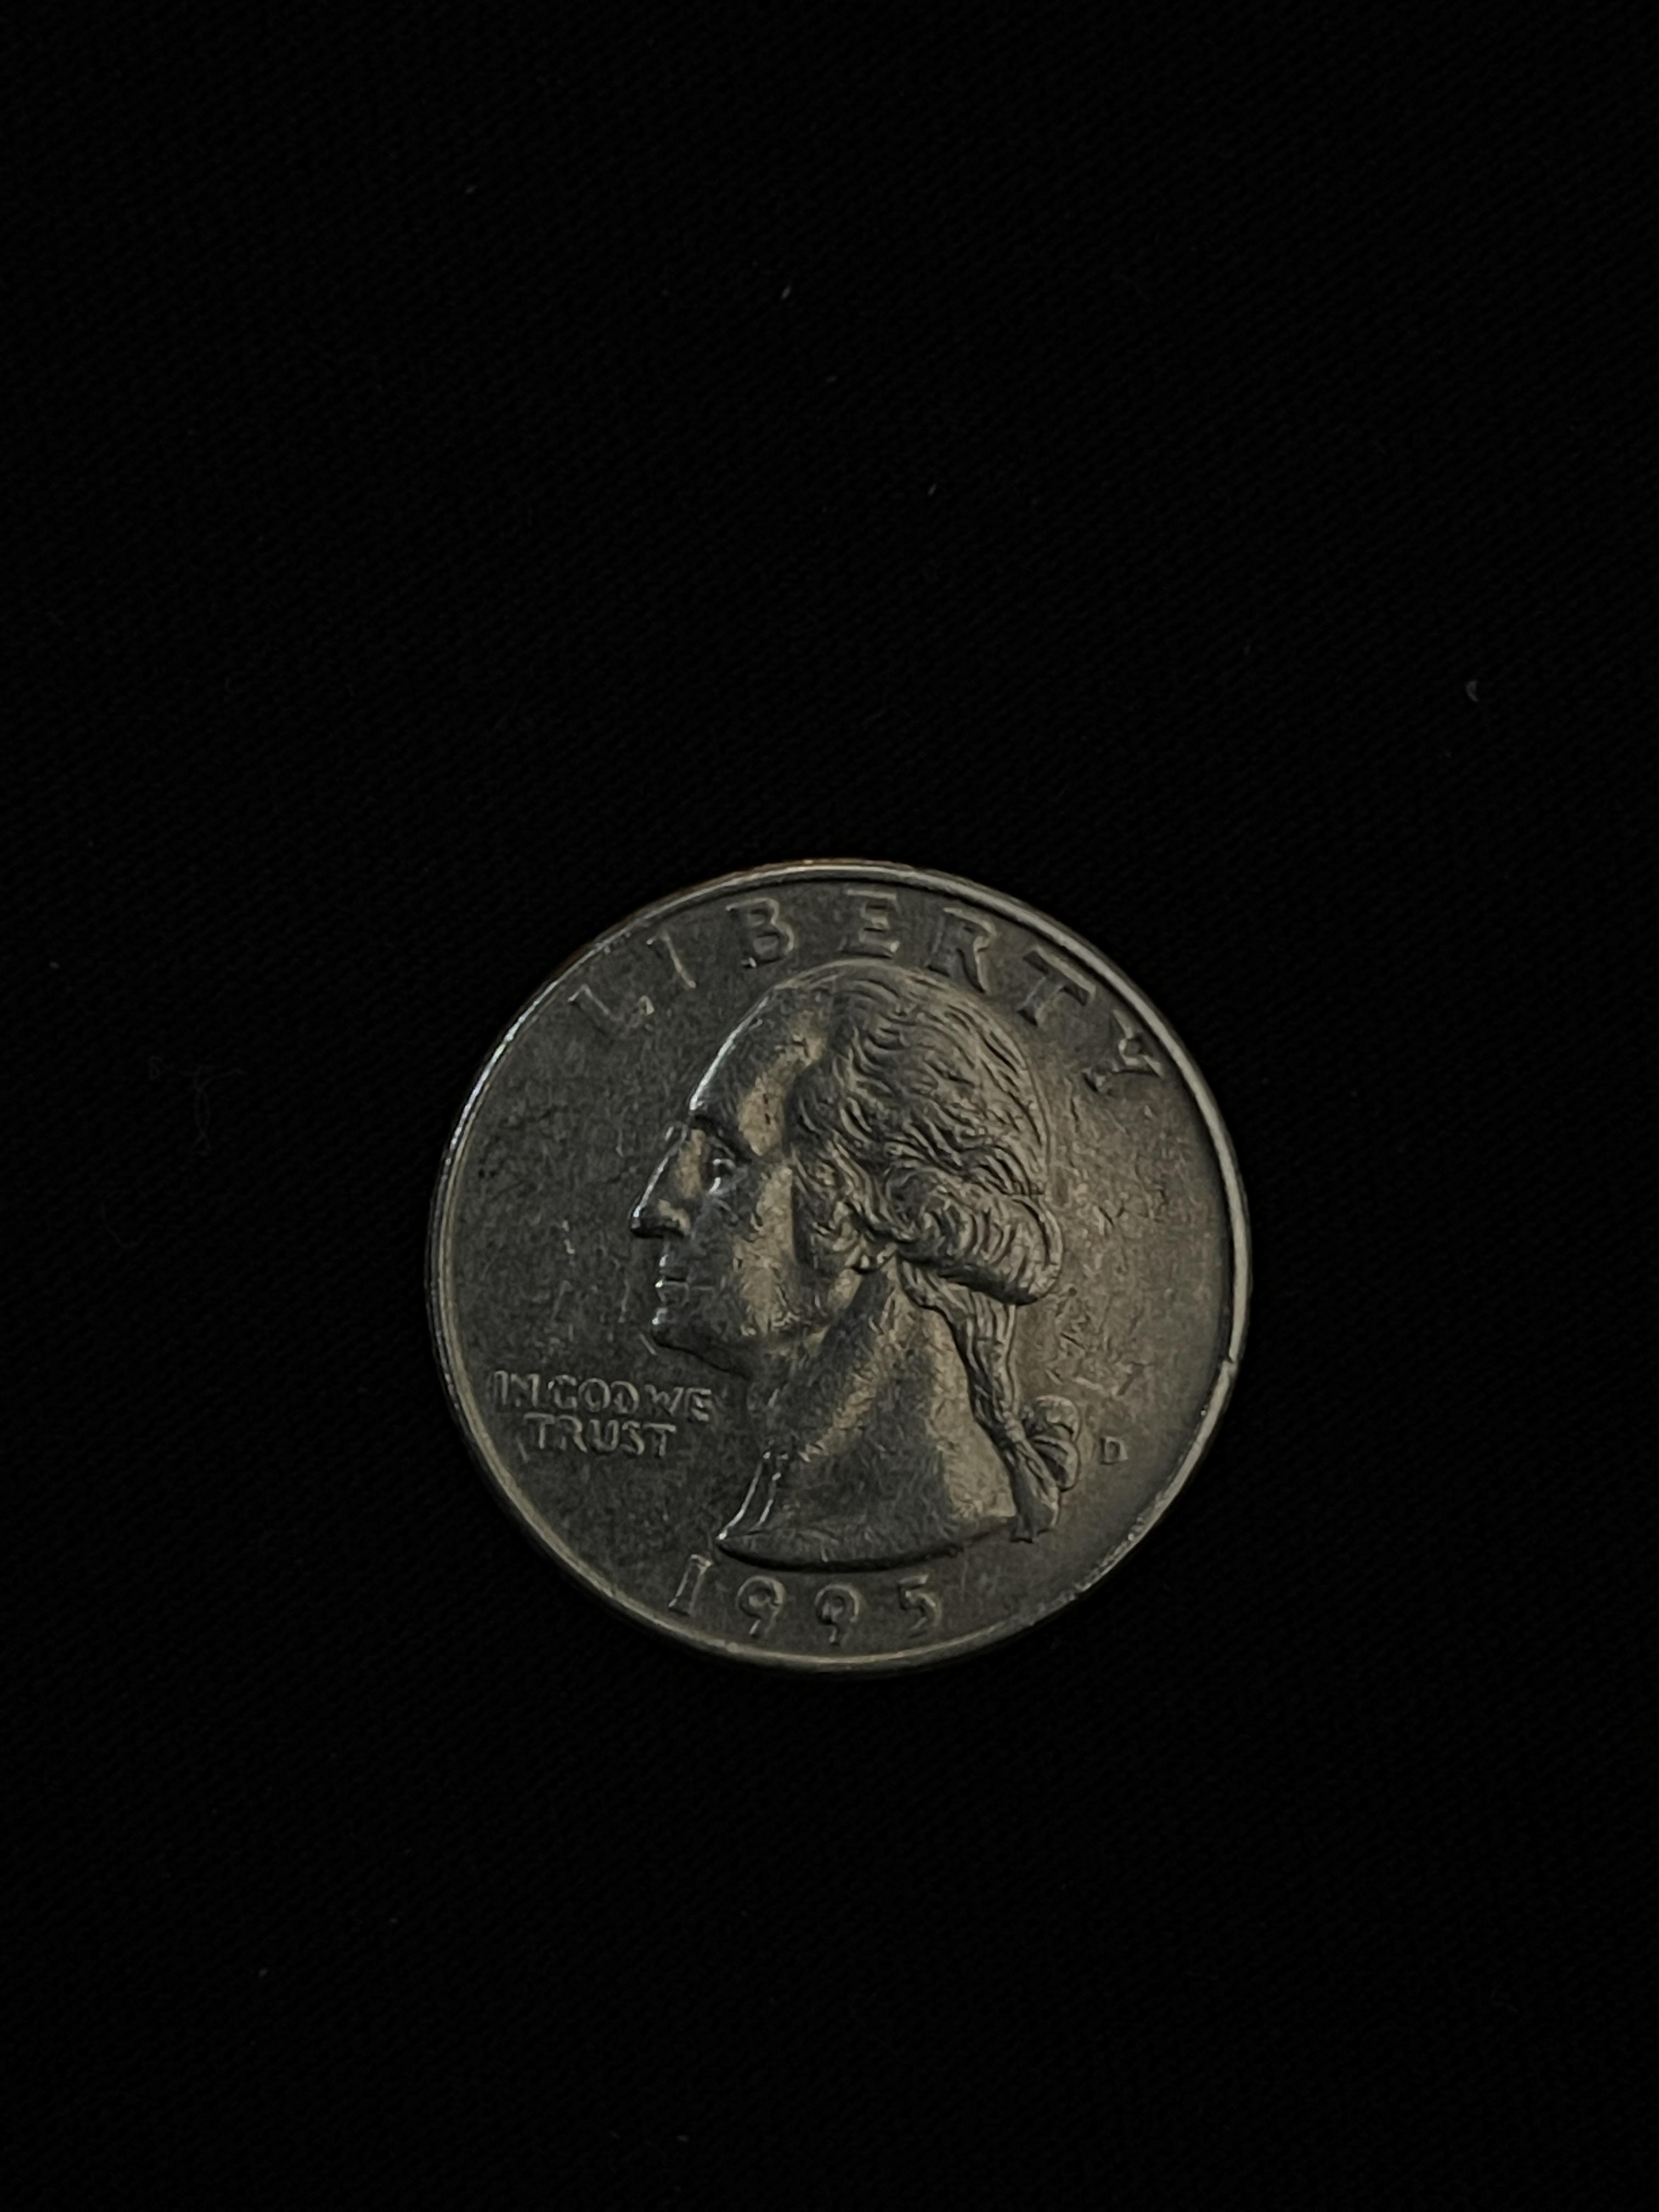Quarter: (420, 857, 1255, 1672)
